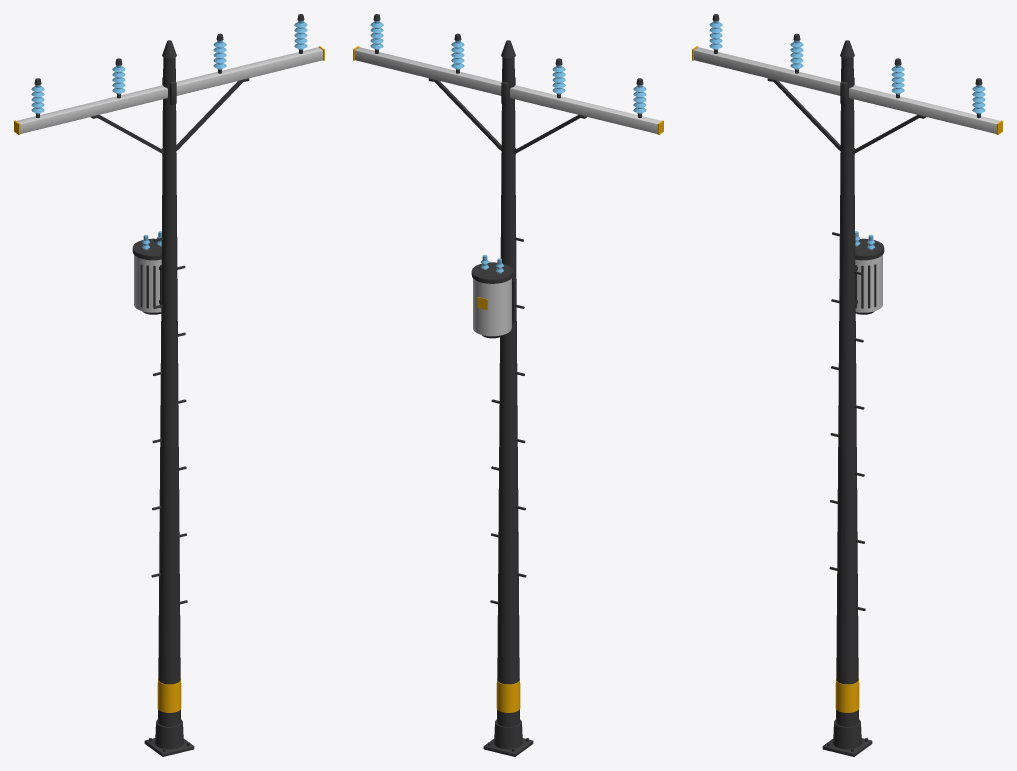
The model's file is pole.obj.
3 views of the same model, side by side, from view 1: azimuth 30°, elevation 25°; view 2: azimuth 150°, elevation 25°; view 3: azimuth 330°, elevation 25° (orthographic).
Parts seen in each view (by area): view 1: pole; view 2: pole; view 3: pole.
Boxes of the visible parts, x1,y1,x2,y2 form: pole: [14, 14, 324, 756]; pole: [353, 14, 663, 756]; pole: [692, 14, 1002, 756].
Size of the model in its own units: 9.08 by 20 by 1.83.
